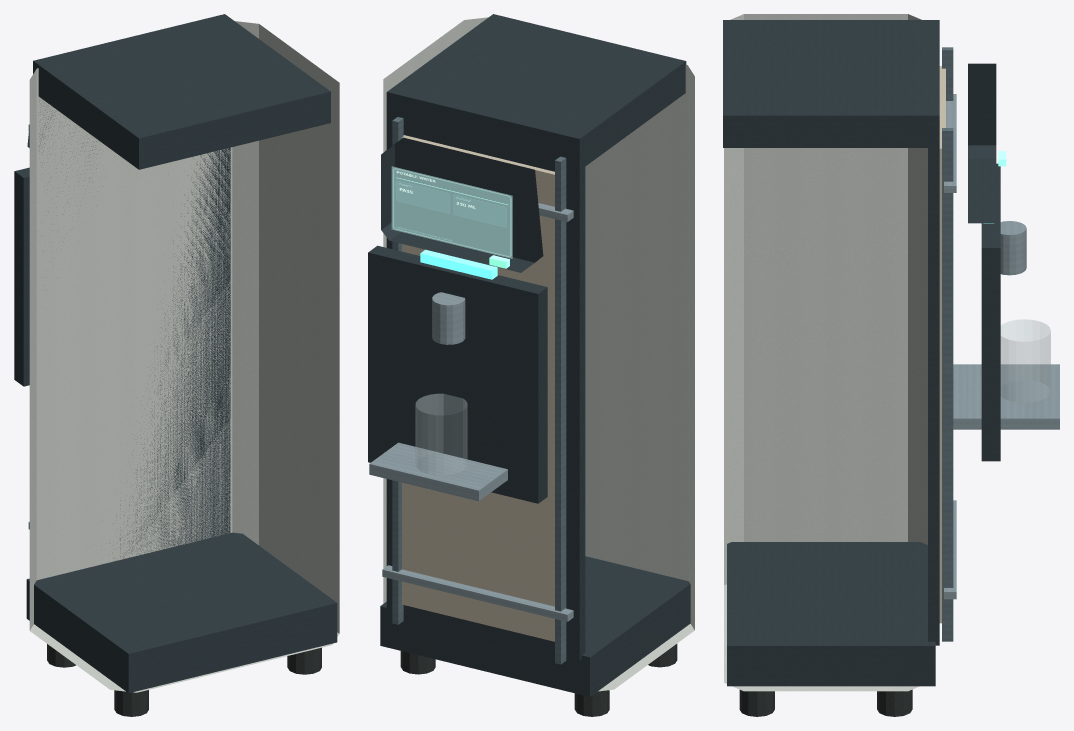
Rendered from potable_water_dispenser.glb.
3 renders of one model, left to right at view 1: azimuth 30°, elevation 25°; view 2: azimuth 150°, elevation 25°; view 3: azimuth 270°, elevation 25°, orthographic. The views are drawn at different scales.
Visible parts, largest first — view 1: static__shell, static__graphite, front_frame__graphite, Dispense_Recess__graphite, feet__rubber; view 2: static__shell, static__graphite, Dispense_Recess__graphite, access_panel__cream, front_frame__graphite, Display__graphite, Display__ui_potable, static__trim, Drip_Tray__alloy, Bottle__clear, static__alloy, feet__rubber (+2 smaller); view 3: static__shell, static__graphite, static__trim, front_frame__graphite, Drip_Tray__alloy, Dispense_Recess__graphite, Display__graphite, Bottle__clear, access_panel__cream, feet__rubber, Water_Nozzle__alloy, static__alloy.
Part boxes in pixels (x1,y1,x2,y2): static__shell: (29,21,339,692); static__graphite: (26,14,337,693); front_frame__graphite: (38,100,230,558); Dispense_Recess__graphite: (14,167,29,386); feet__rubber: (47,644,321,716); static__shell: (383,17,694,691); static__graphite: (380,14,690,696); Dispense_Recess__graphite: (368,245,547,503); access_panel__cream: (402,135,554,641); front_frame__graphite: (386,116,585,660); Display__graphite: (381,137,543,272); Display__ui_potable: (391,166,512,258); static__trim: (392,117,566,664); Drip_Tray__alloy: (369,442,507,501); Bottle__clear: (415,394,467,475); static__alloy: (382,203,573,621); feet__rubber: (400,644,677,716); static__shell: (724,14,927,691); static__graphite: (723,20,939,686); static__trim: (942,47,953,641); front_frame__graphite: (928,139,939,645); Drip_Tray__alloy: (953,364,1059,429); Dispense_Recess__graphite: (981,163,1000,461); Display__graphite: (968,63,996,223); Bottle__clear: (1001,319,1050,402); access_panel__cream: (939,66,945,623); feet__rubber: (739,689,912,716); Water_Nozzle__alloy: (1000,221,1026,275); static__alloy: (944,94,956,599).
Bounding box in the file's own units: 0.61 × 1.49 × 0.759.
10 materials, 9 textured.
